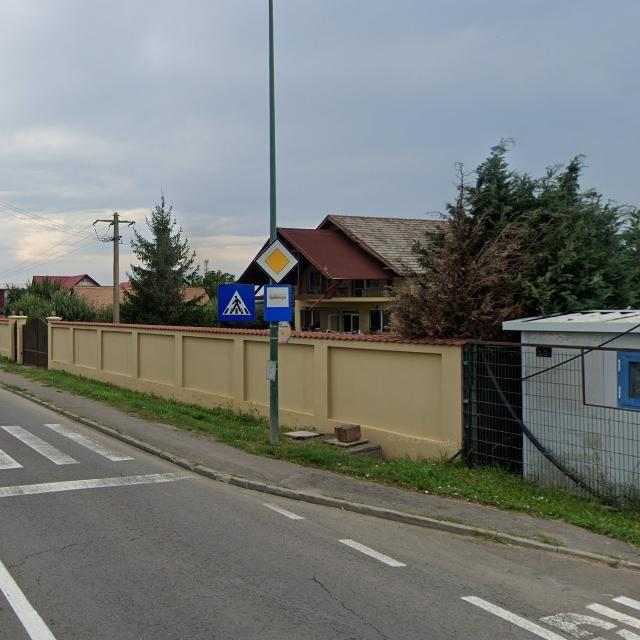info_crosswalk: (217, 284, 255, 322)
